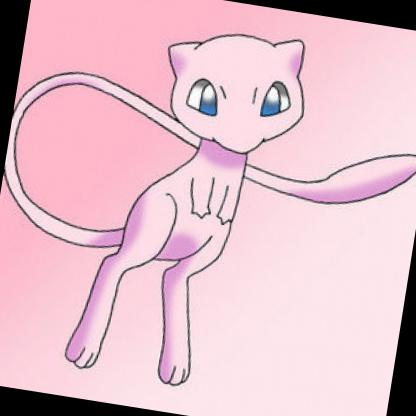Mew: (1, 1, 405, 396)
